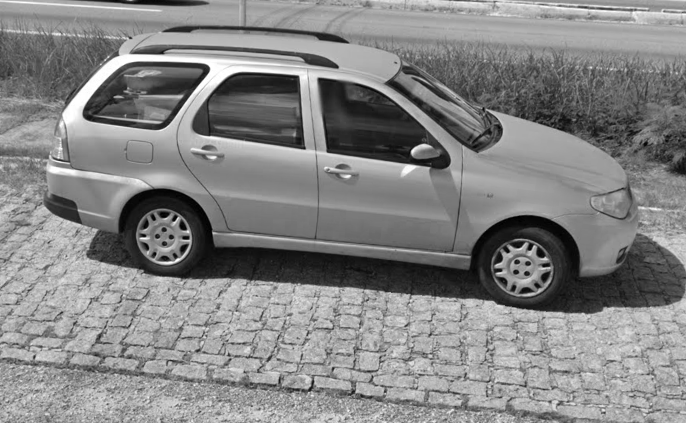car: (42, 21, 642, 311)
